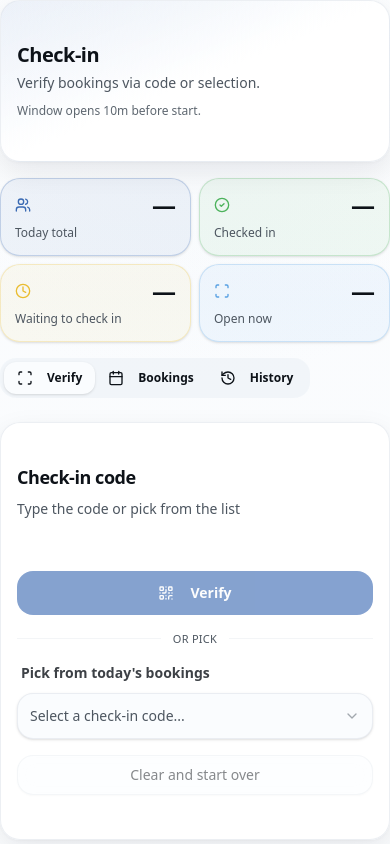
Scenario: CheckInPage › renders the verification input and today's bookings
The width and height of the screenshot is (390, 844).
Press the mouse on the tab "Bookings" at (151, 378), box [95,362,207,394]
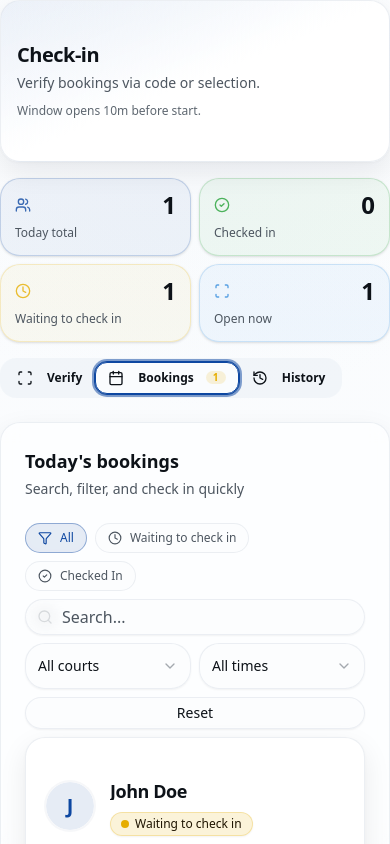
Check: the heading "John Doe" is shown, box [110,778,187,802]
